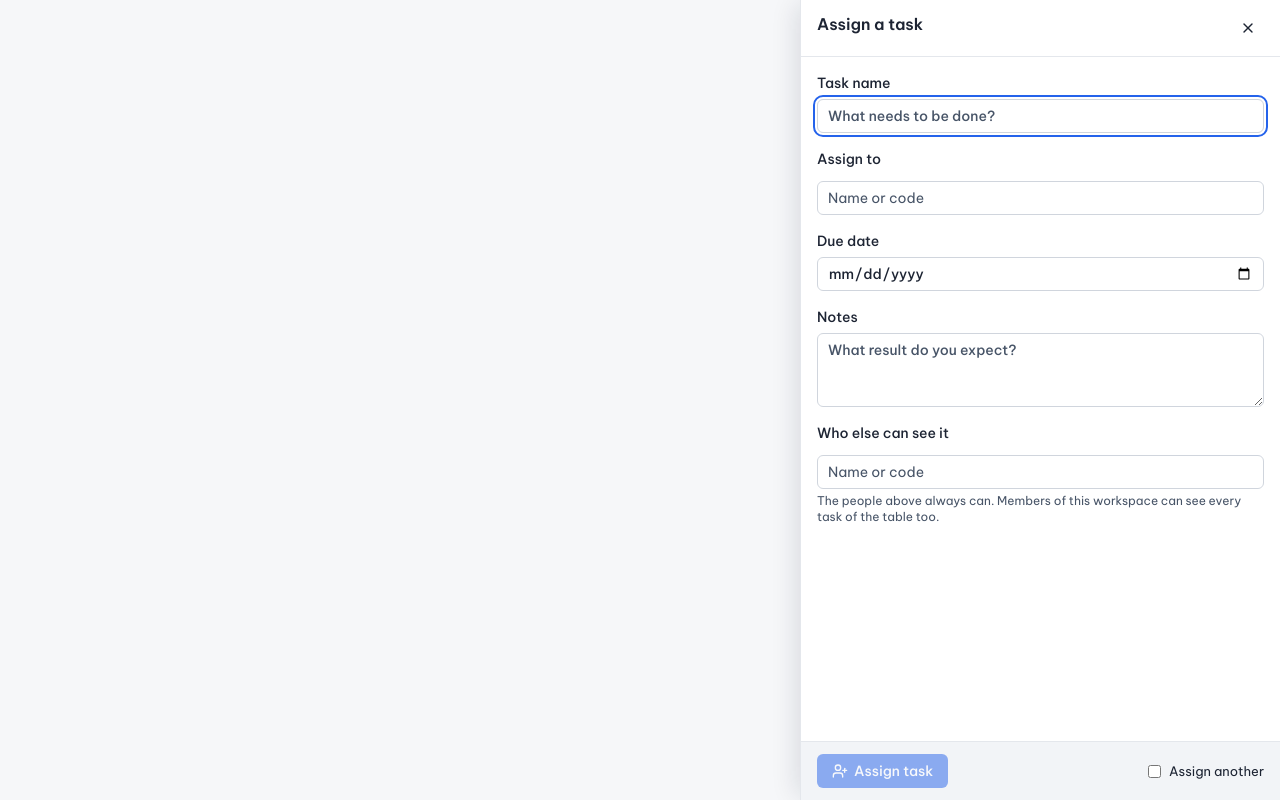
AssignTaskDrawer › shows who will have access before the task is sent
Expected: the element "Who will have access" is not shown
Type "a" into the search field with placeholder "Name or code" below "Assign to". click: (1040, 198)
box: top-left (817, 181), bottom-right (1264, 215)
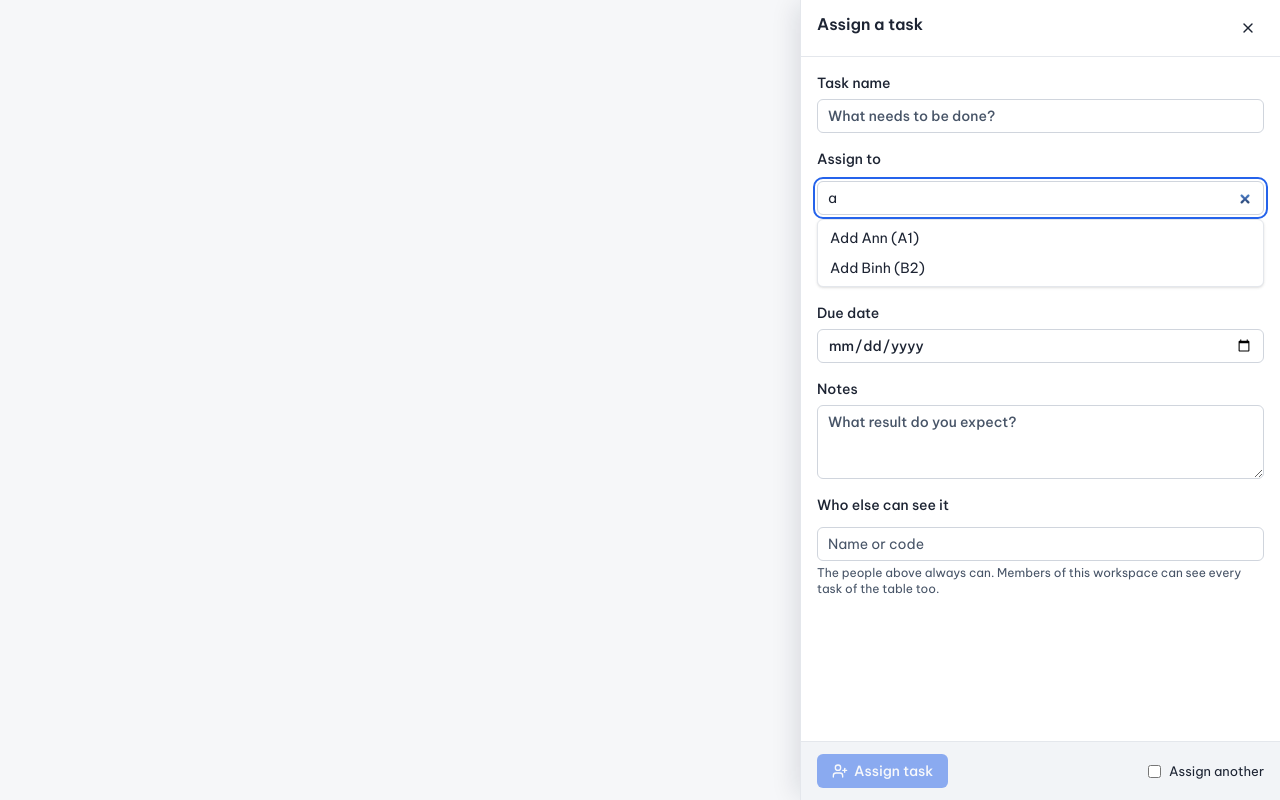
Click the button "Add Ann (A1)". click: click(846, 238)
box: top-left (822, 224), bottom-right (1259, 252)
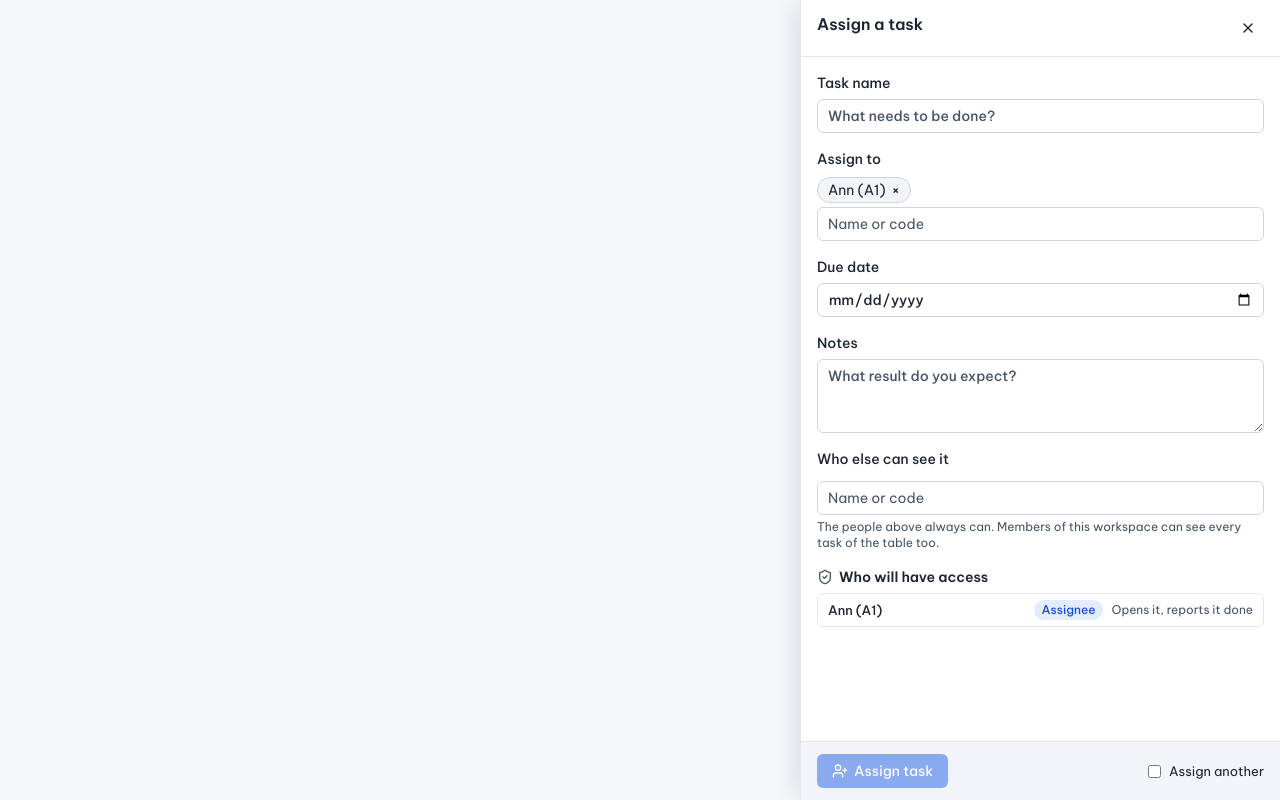
Type "a" into the search field with placeholder "Name or code" below "Who else can see it". click: (1040, 498)
box: top-left (817, 481), bottom-right (1264, 515)
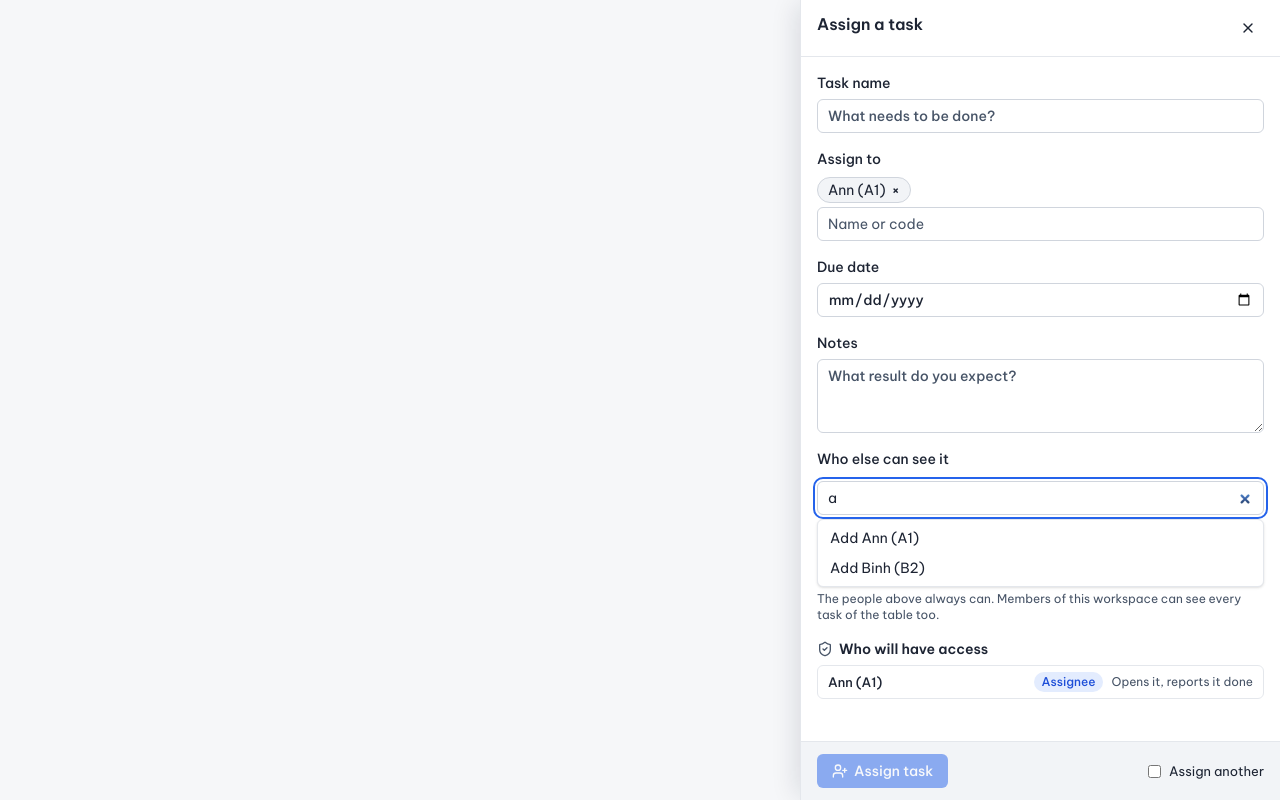
Click the button "Add Binh (B2)". click: click(846, 568)
box: top-left (822, 554), bottom-right (1259, 582)
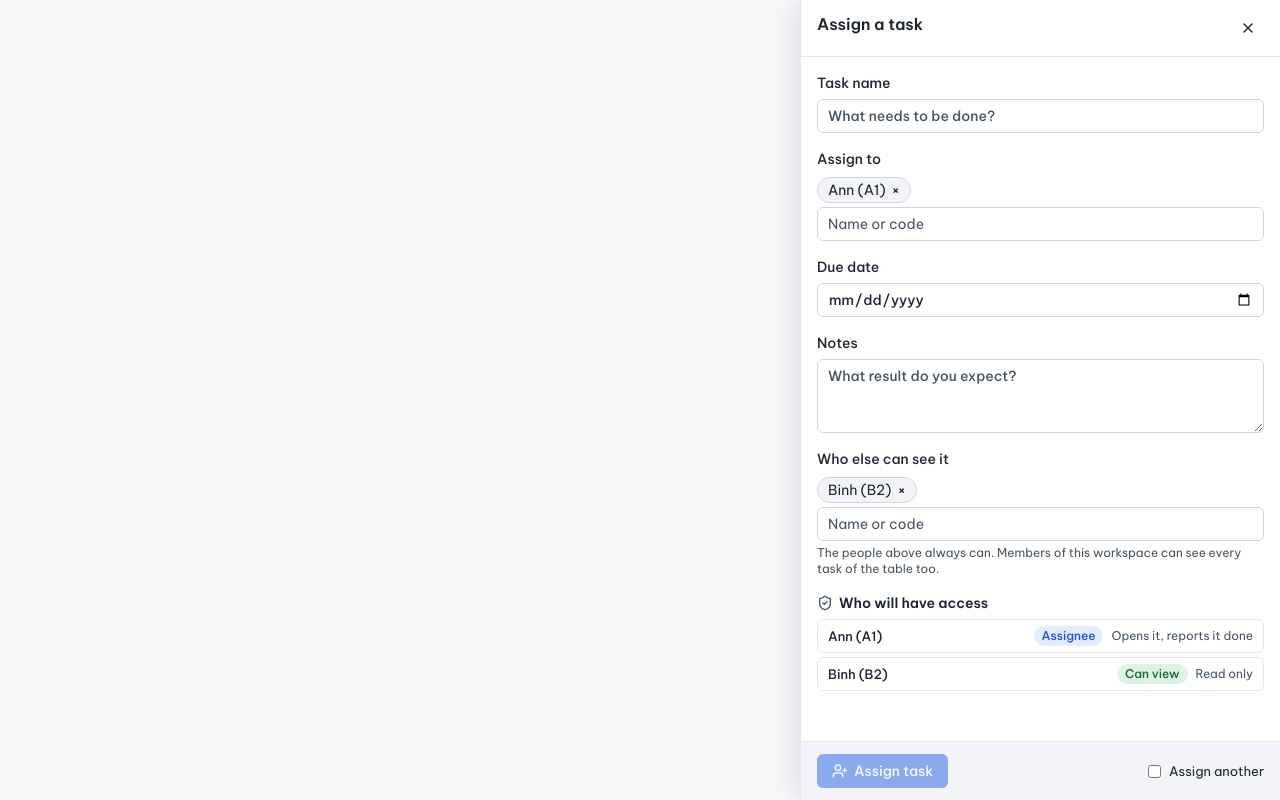
Expected: the list item "Ann (A1) Assignee Opens it, reports it done" is shown, top-left (817, 619), bottom-right (1264, 653)
Expected: the list item "Binh (B2) Can view Read only" is shown, top-left (817, 657), bottom-right (1264, 691)
